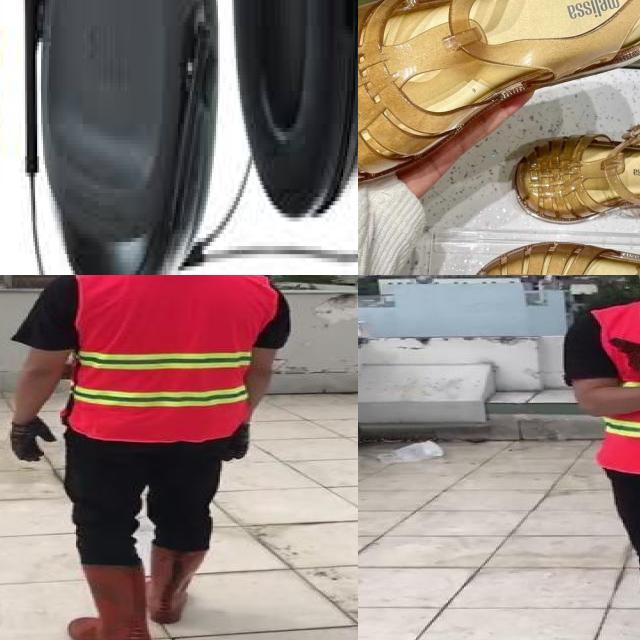Ear-protection: (35, 0, 220, 275), (229, 0, 358, 207)
Sandals: (358, 0, 640, 212), (501, 103, 640, 237)
boots: (67, 562, 149, 640), (147, 541, 208, 624)
hand_glove: (11, 419, 56, 461), (224, 427, 254, 462)
head_helmet: (2, 275, 295, 640)
person: (551, 275, 640, 640)
vest: (72, 275, 269, 439), (588, 299, 640, 474)
